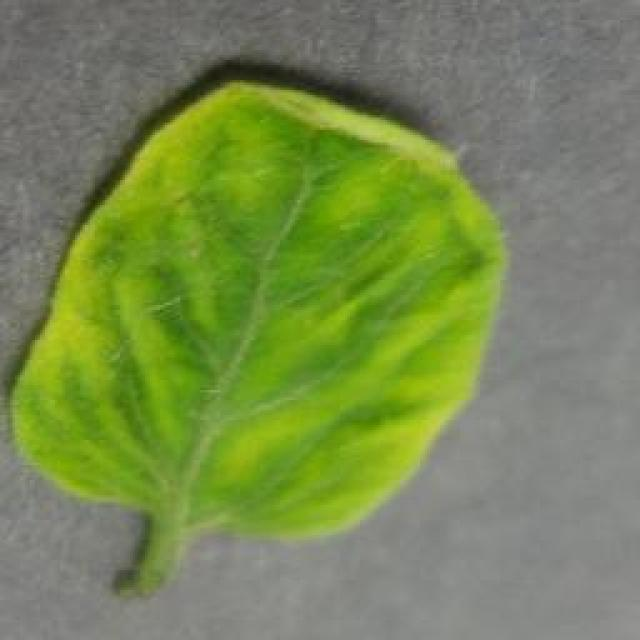Tomato yellow virus leaf: (9, 72, 507, 546)
